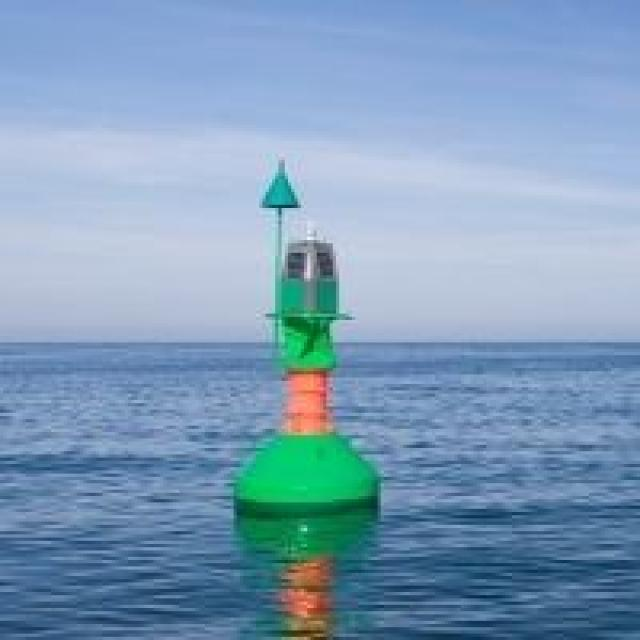buoy: (212, 141, 411, 560)
